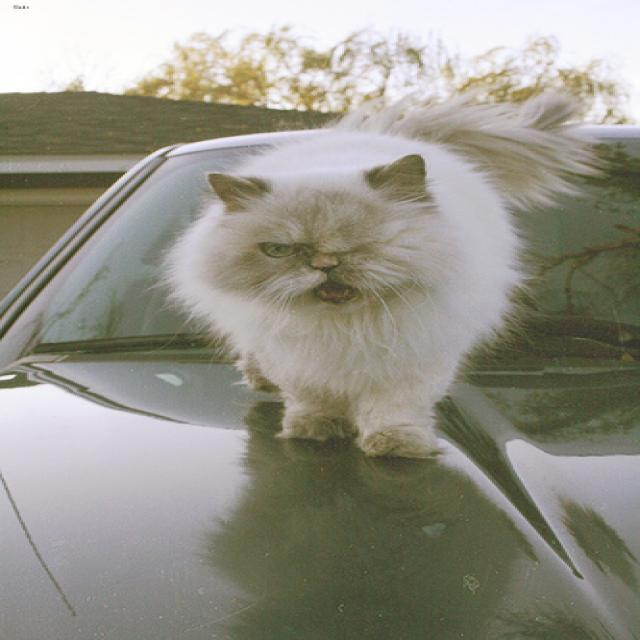Persian: (156, 148, 474, 328)
